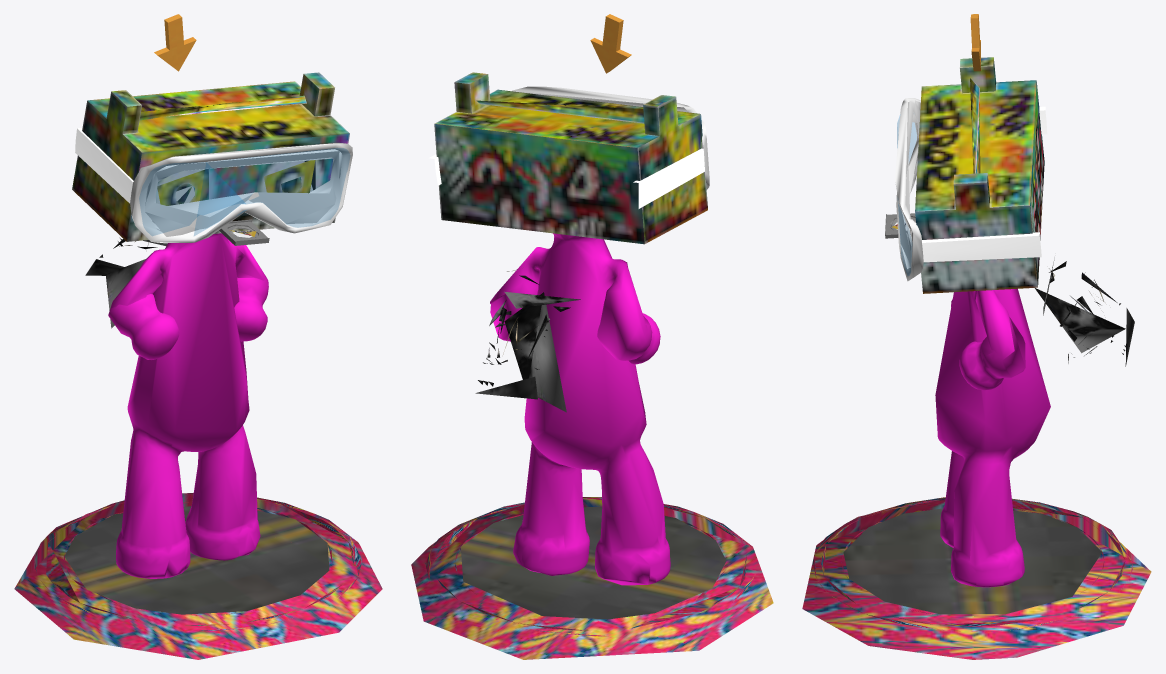
Rendered from out_bOOBOXBODY_Mat_1_Mat_1.baked.001_LOD1_106_LOD.glb.
3 views of the same model, side by side, from view 1: azimuth 30°, elevation 25°; view 2: azimuth 150°, elevation 25°; view 3: azimuth 270°, elevation 25° (orthographic). The views are drawn at different scales.
Parts seen in each view (by area): view 1: bOOBOXBODY_Mat_1_Mat_1.baked.001_LOD1; view 2: bOOBOXBODY_Mat_1_Mat_1.baked.001_LOD1; view 3: bOOBOXBODY_Mat_1_Mat_1.baked.001_LOD1.
Part boxes in pixels (x1,y1,x2,y2): bOOBOXBODY_Mat_1_Mat_1.baked.001_LOD1: (14,14,382,659); bOOBOXBODY_Mat_1_Mat_1.baked.001_LOD1: (411,14,773,659); bOOBOXBODY_Mat_1_Mat_1.baked.001_LOD1: (802,14,1151,659).
Bounding box in the file's own units: 1.41 × 2.46 × 1.4.
Materials: 13 (6 with a texture image).
